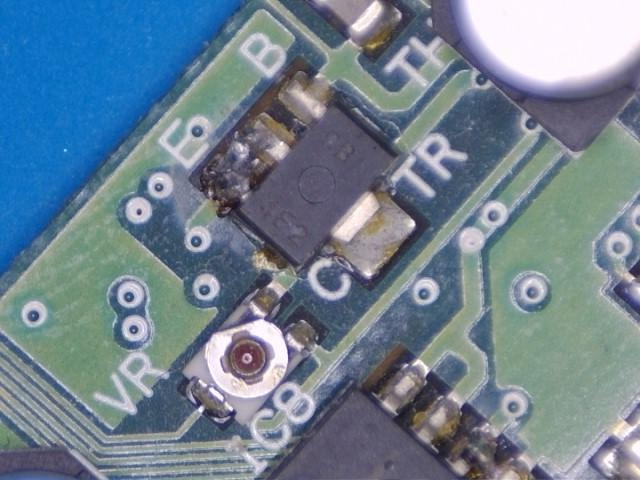pcb_defect: (199, 121, 292, 201)
